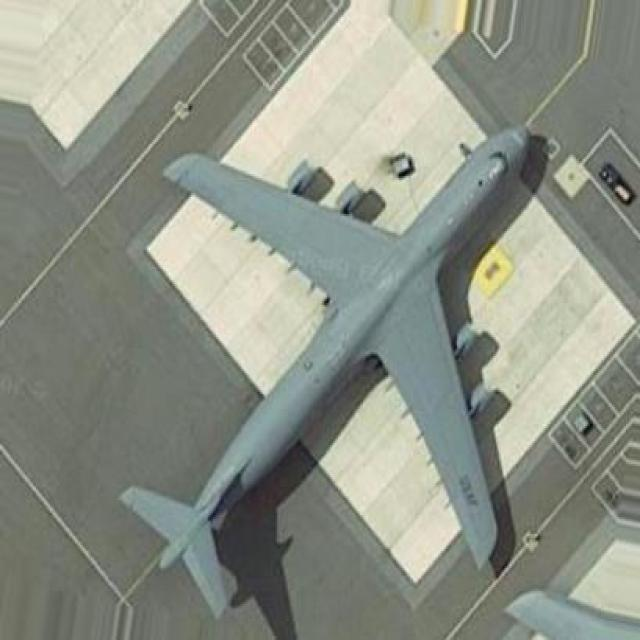C-5_TopDown: (114, 112, 549, 640)
